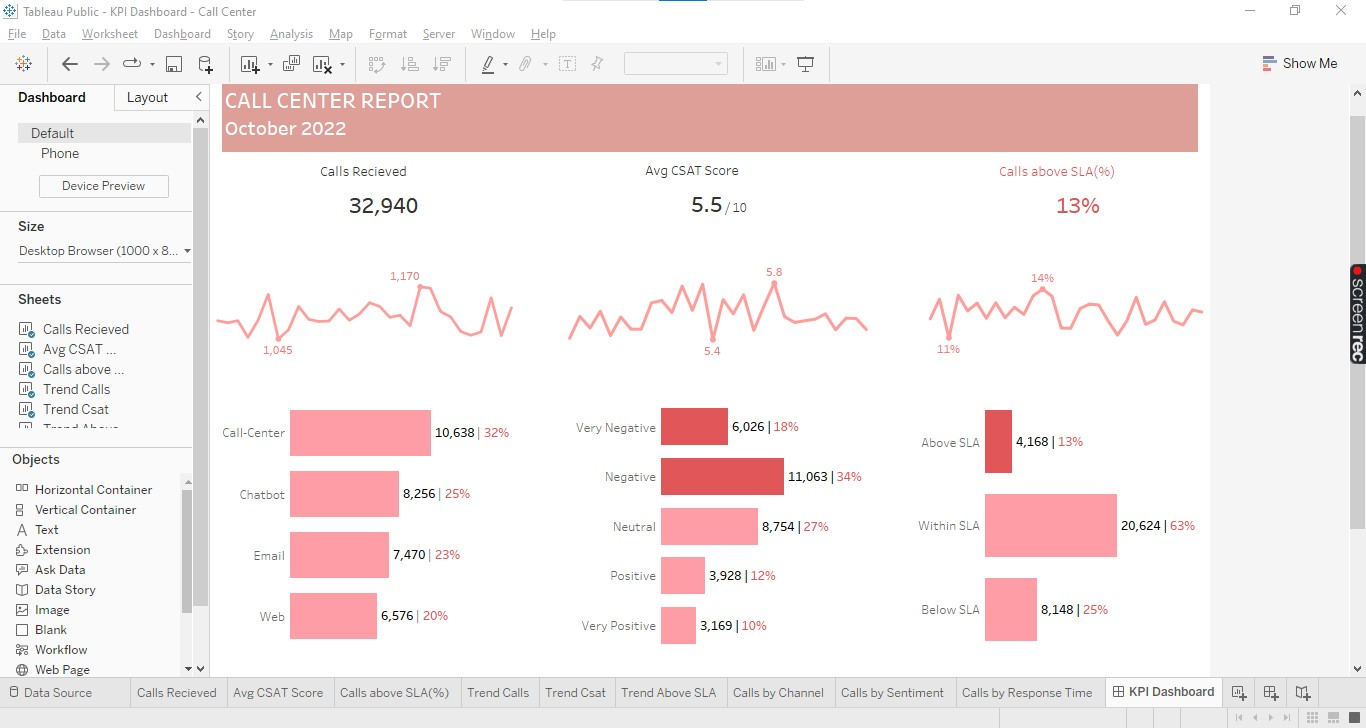

This screenshot's page, from the dashboard's own definition file:
{"tool":"tableau","page":{"name":"KPI Dashboard","canvas":[1000,800],"ordinal":0},"visuals":[{"type":"title","box":[8,8,984,86]},{"type":"worksheet","title":"Avg CSAT Score","mark":"Automatic","box":[431,95,157,80]},{"type":"worksheet","title":"Calls Recieved","mark":"Automatic","box":[106,96,136,82]},{"type":"worksheet","title":"Calls above SLA(%)","mark":"Automatic","box":[785,96,167,76]},{"type":"worksheet","title":"Trend Above SLA","mark":"Automatic","rows":["Calculation_330451652269510657"],"cols":["call_timestamp"],"box":[715,171,281,162]},{"type":"worksheet","title":"Trend Csat","mark":"Automatic","rows":["csat_score"],"cols":["call_timestamp"],"box":[354,173,307,158]},{"type":"worksheet","title":"Trend Calls","mark":"Automatic","rows":["Calculation_330451652268077056"],"cols":["call_timestamp"],"box":[2,176,304,161]},{"type":"worksheet","title":"Calls by Response Time","mark":"Automatic","rows":["response_time"],"cols":["Calculation_330451652268077056"],"box":[695,323,302,266]},{"type":"worksheet","title":"Calls by Channel","mark":"Automatic","rows":["channel"],"cols":["Calculation_330451652268077056"],"box":[0,325,311,260]},{"type":"worksheet","title":"Calls by Sentiment","mark":"Automatic","rows":["sentiment"],"cols":["Calculation_330451652268077056"],"box":[351,325,312,263]}]}

Visuals, with their boxes in screenshot pixels (x1, y1, x2, y2):
title: {"x1": 427, "y1": 0, "x2": 1344, "y2": 77}
"Avg CSAT Score" worksheet: {"x1": 821, "y1": 78, "x2": 968, "y2": 152}
"Calls Recieved" worksheet: {"x1": 519, "y1": 79, "x2": 645, "y2": 155}
"Calls above SLA(%)" worksheet: {"x1": 1151, "y1": 79, "x2": 1307, "y2": 150}
"Trend Above SLA" worksheet: {"x1": 1086, "y1": 149, "x2": 1348, "y2": 300}
"Trend Csat" worksheet: {"x1": 750, "y1": 151, "x2": 1036, "y2": 298}
"Trend Calls" worksheet: {"x1": 422, "y1": 153, "x2": 705, "y2": 303}
"Calls by Response Time" worksheet: {"x1": 1067, "y1": 290, "x2": 1349, "y2": 538}
"Calls by Channel" worksheet: {"x1": 420, "y1": 292, "x2": 710, "y2": 535}
"Calls by Sentiment" worksheet: {"x1": 747, "y1": 292, "x2": 1038, "y2": 537}
